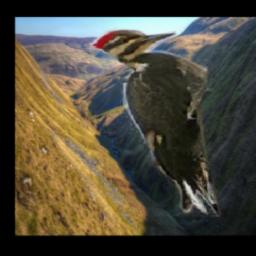Woodpecker: (91, 27, 222, 217)
